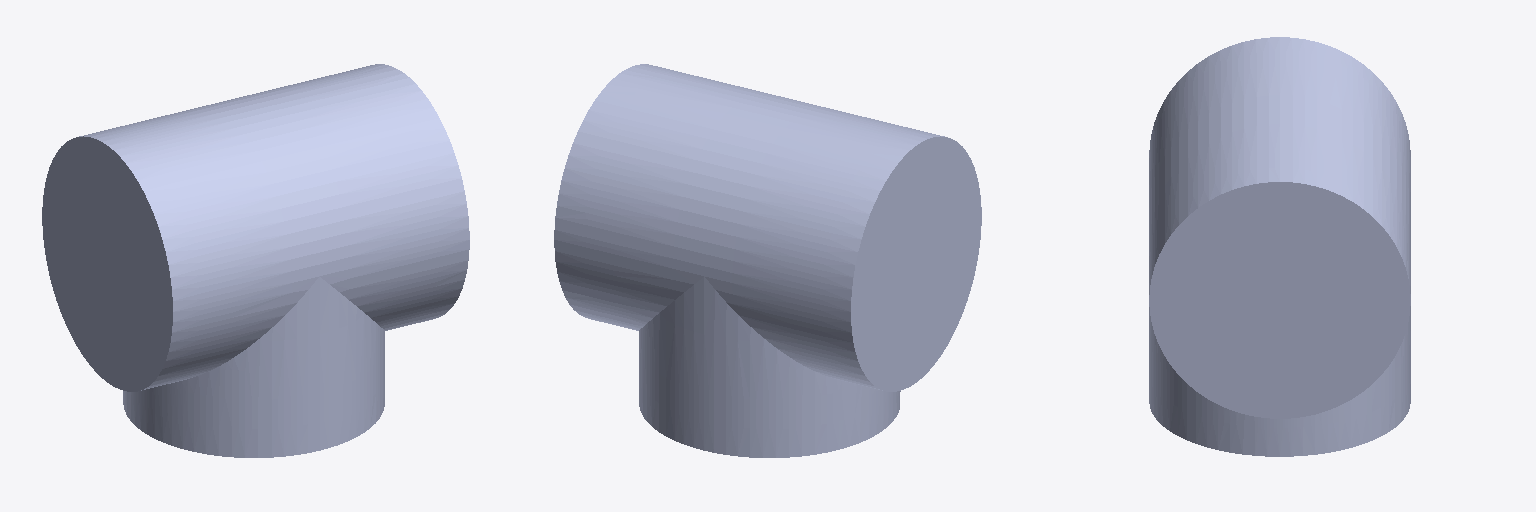
3 views of the same model, side by side, from view 1: azimuth 30°, elevation 25°; view 2: azimuth 150°, elevation 25°; view 3: azimuth 270°, elevation 25° (orthographic).
Visible parts, largest first — view 1: [number redacted]; view 2: [number redacted]; view 3: [number redacted].
Boxes of the visible parts, box(x1,y1,x2,y2) form: [number redacted]: box(42, 64, 469, 457); [number redacted]: box(554, 64, 981, 457); [number redacted]: box(1149, 37, 1410, 456).
Size of the model in its own units: 0.5298 by 0.4999 by 0.4045.